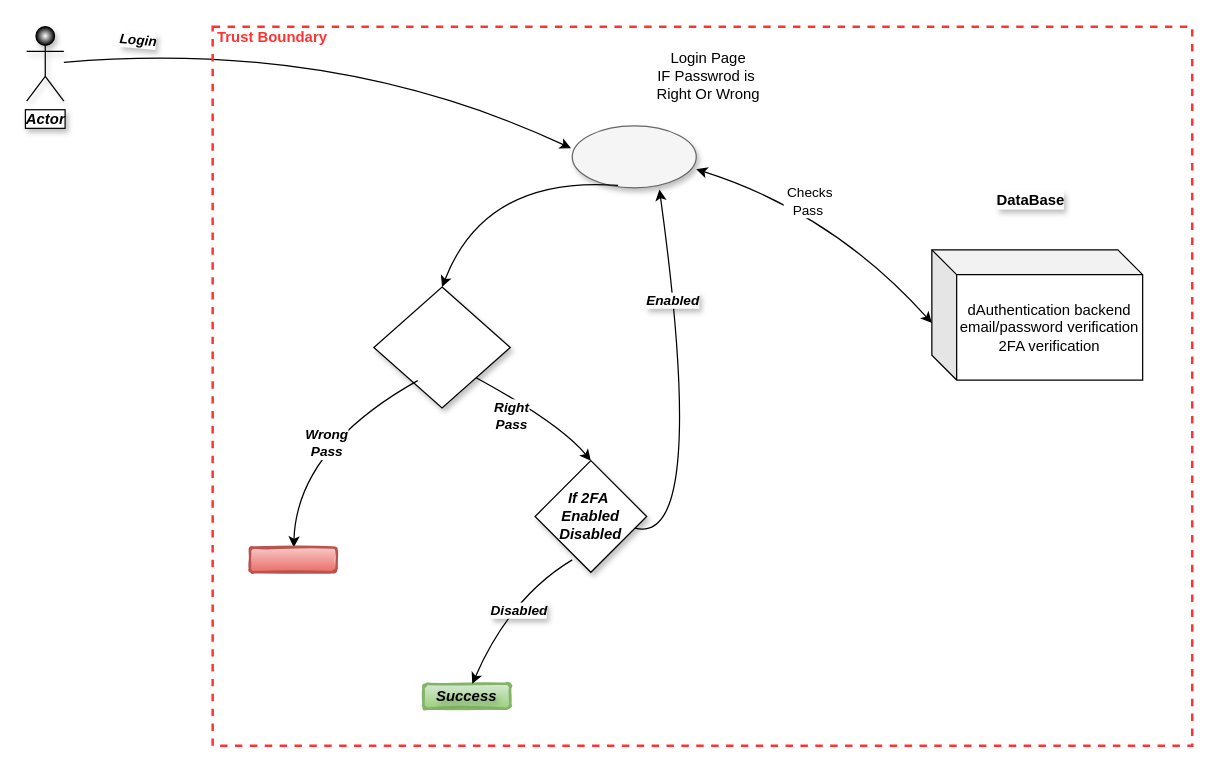
Image size: 1215x769. Some labels were removed from this diagram. Each missing label, with the centre of its shape:
"End" belongs at point (292, 559).
"If Pass is Right Or Wrong" belongs at point (443, 349).
"Login2TFA" belongs at point (635, 158).
